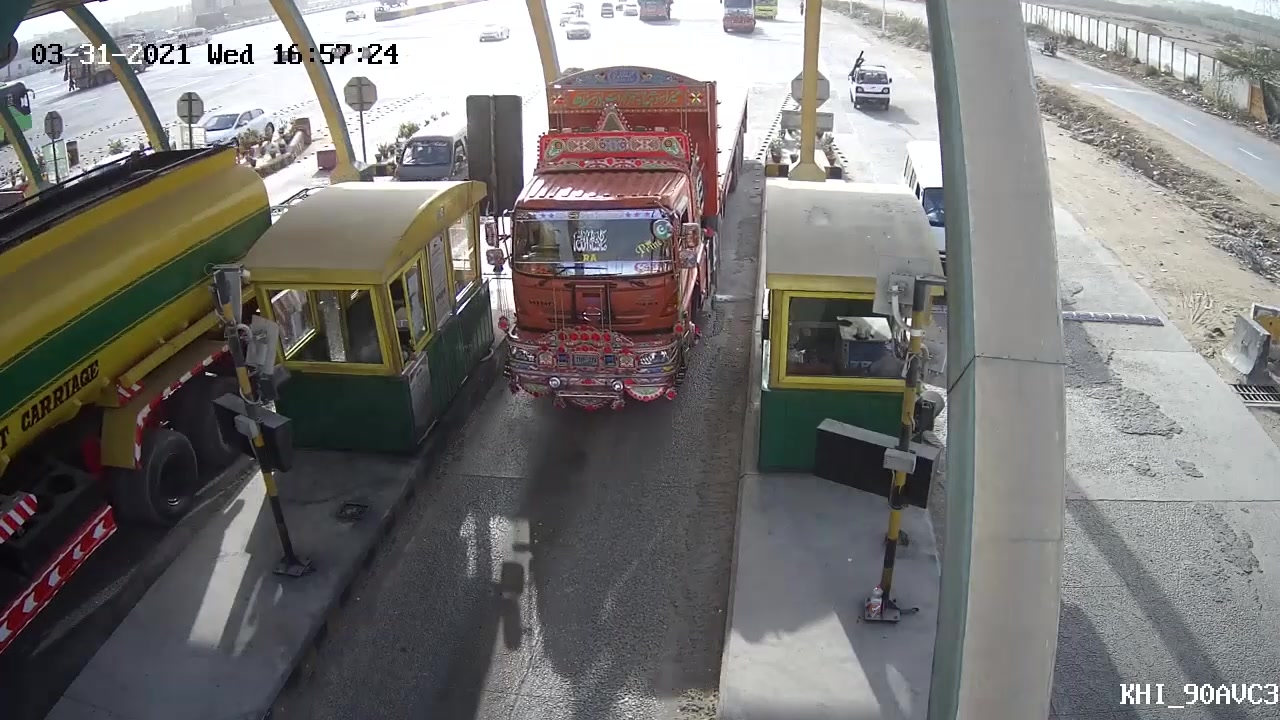F6: (468, 68, 753, 404)
